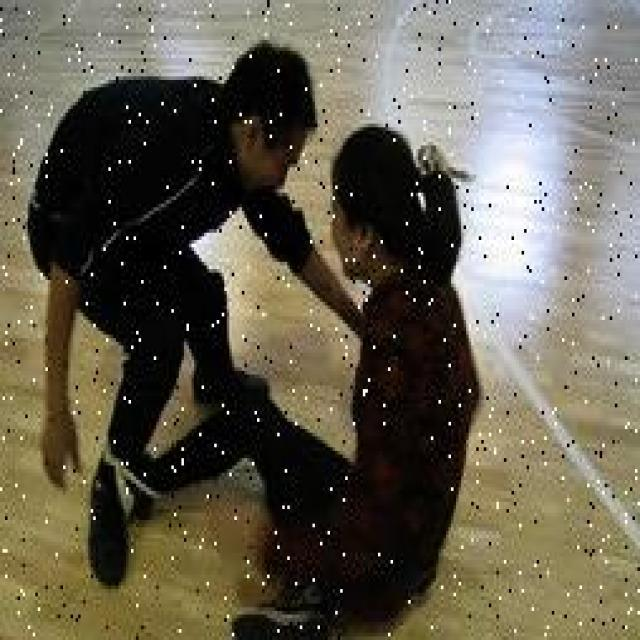fall: (182, 128, 474, 636)
